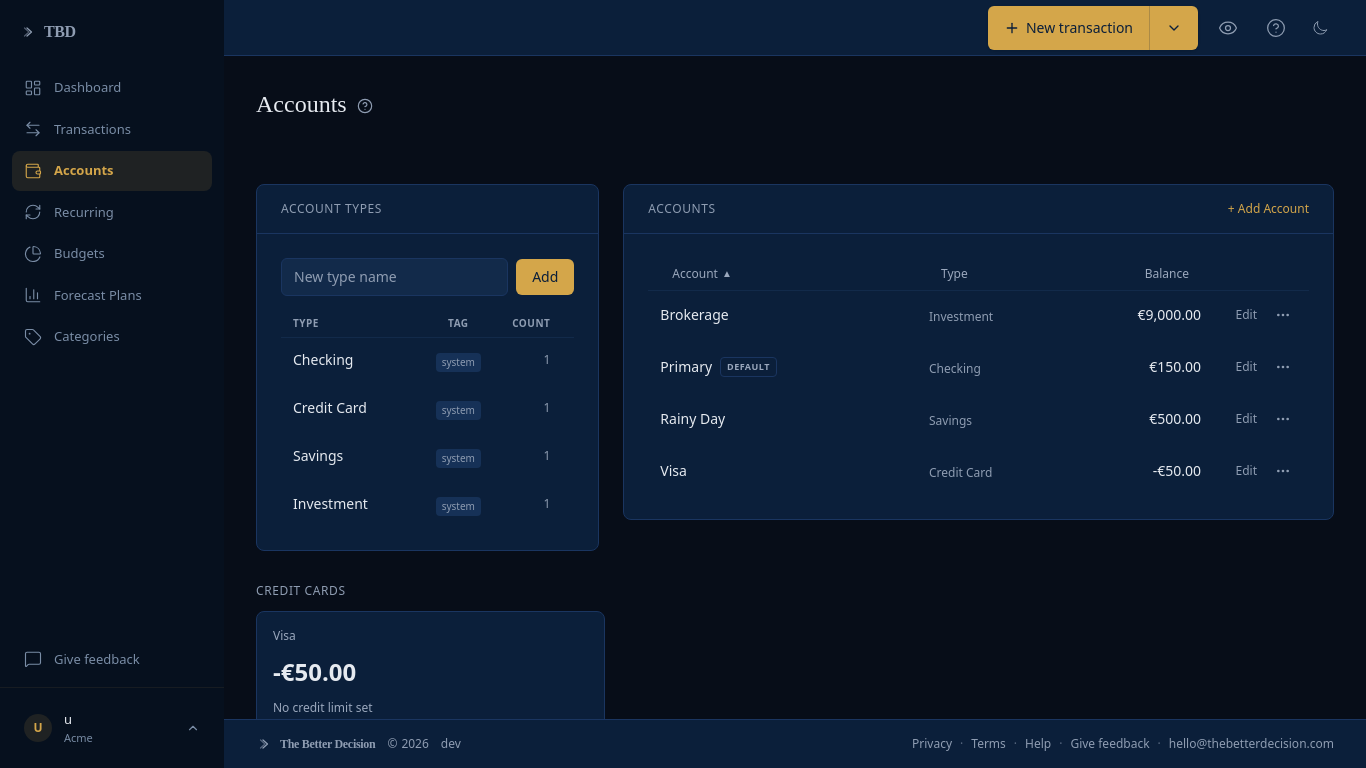
it: Payment Source — inline edit picker › CC row shows the Paid from picker seeded with the current source
Click the 4th button "Edit": (1246, 471) [1236, 463, 1257, 479]
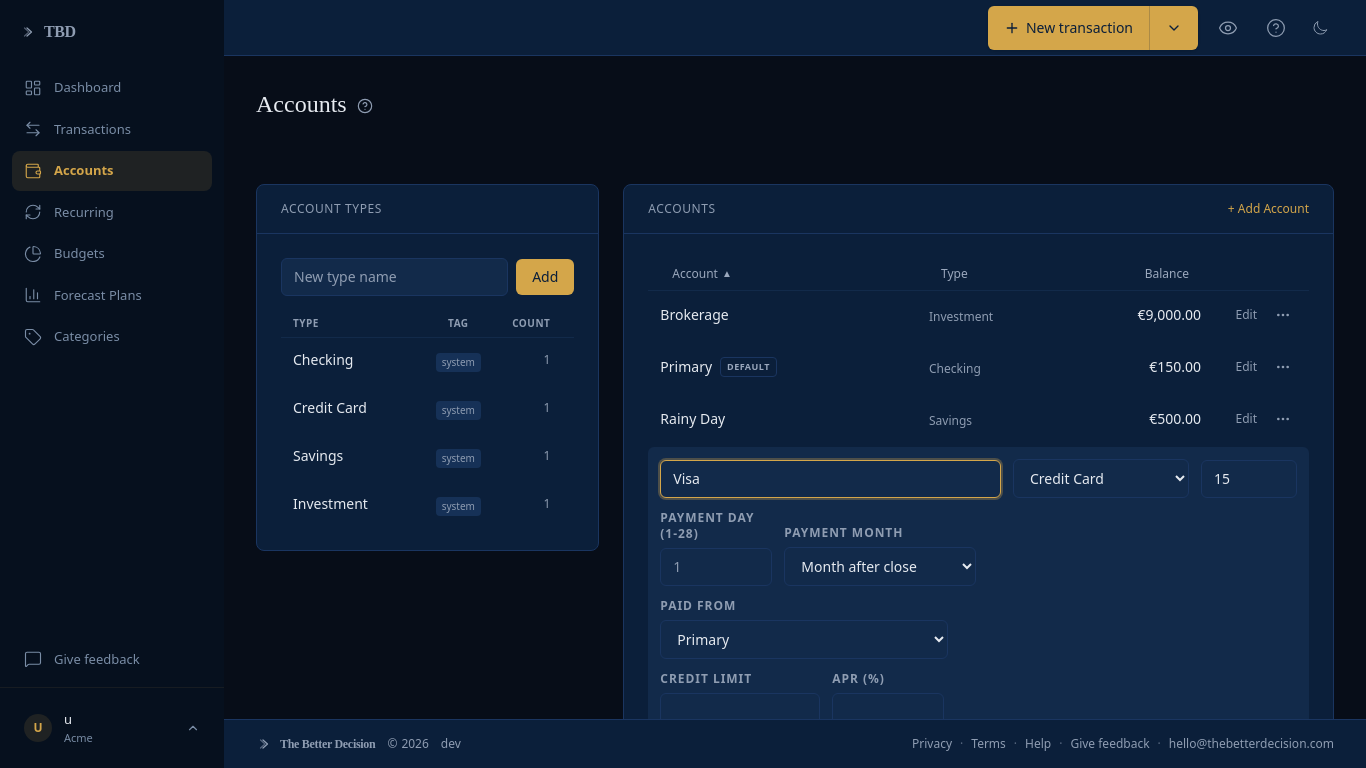
Expected: the dropdown labelled "Paid from" shows "Primary", [660, 620, 948, 659]
